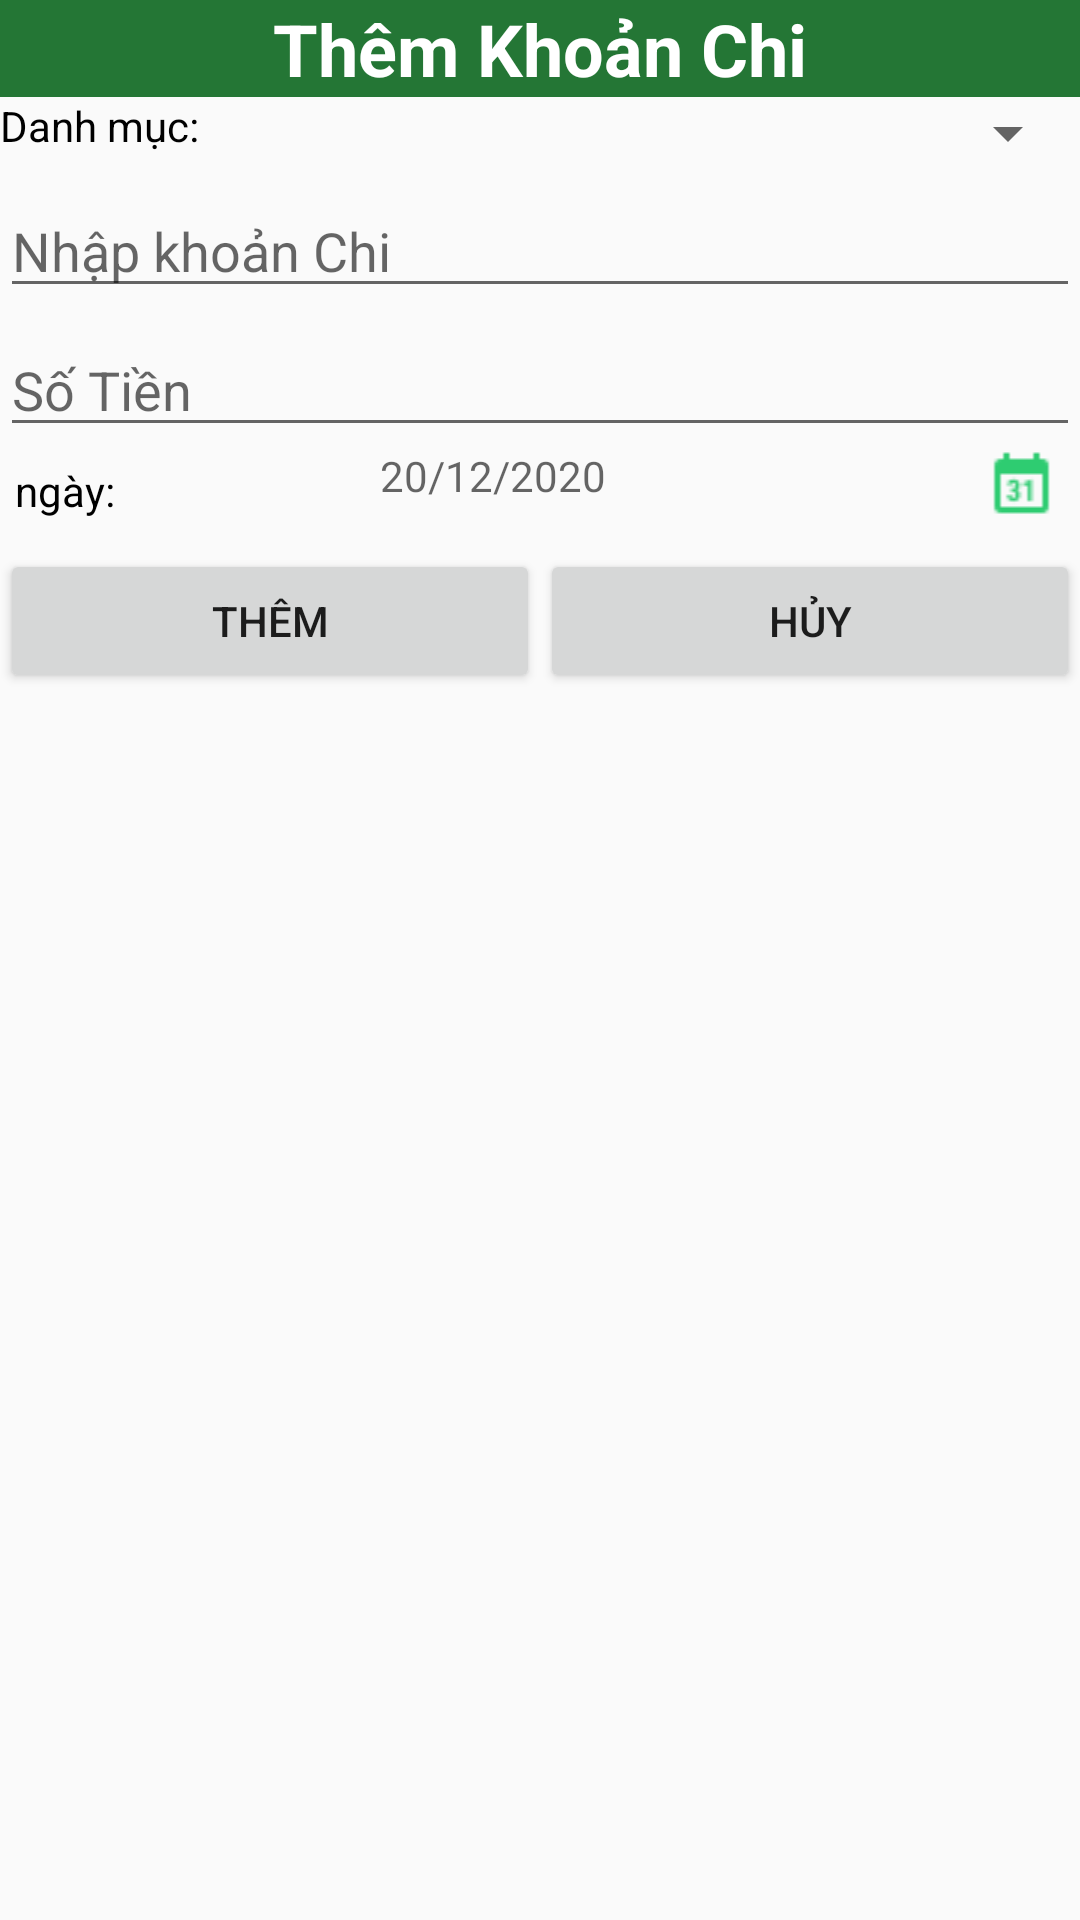

Icons on this 1080 × 1920 Android screen, each with the point to tap as point (x, y):
lich: point (1021, 483)
